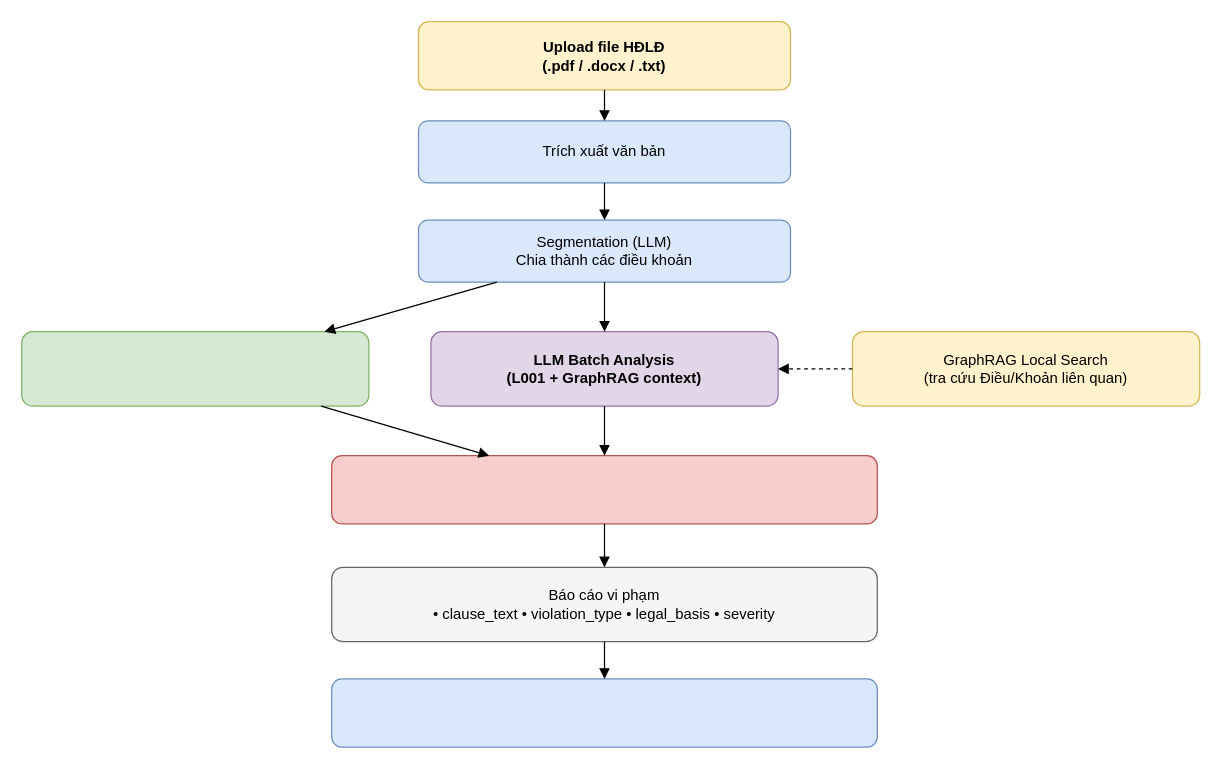
Image size: 1221x769. Some labels were removed from this diagram. The centre of each missing label's shape, as x and y in pixels:
"Hiển thị trên Giao diện (highlight điều khoản + trích dẫn pháp luật)" belongs at [603,712].
"Hợp nhất kết quả VR + LLM (dedup, ưu tiên VR cho rule cứng)" belongs at [603,489].
"Rule Validator (Deterministic) L001–L015: regex + logic cứng" belongs at [194,368].
